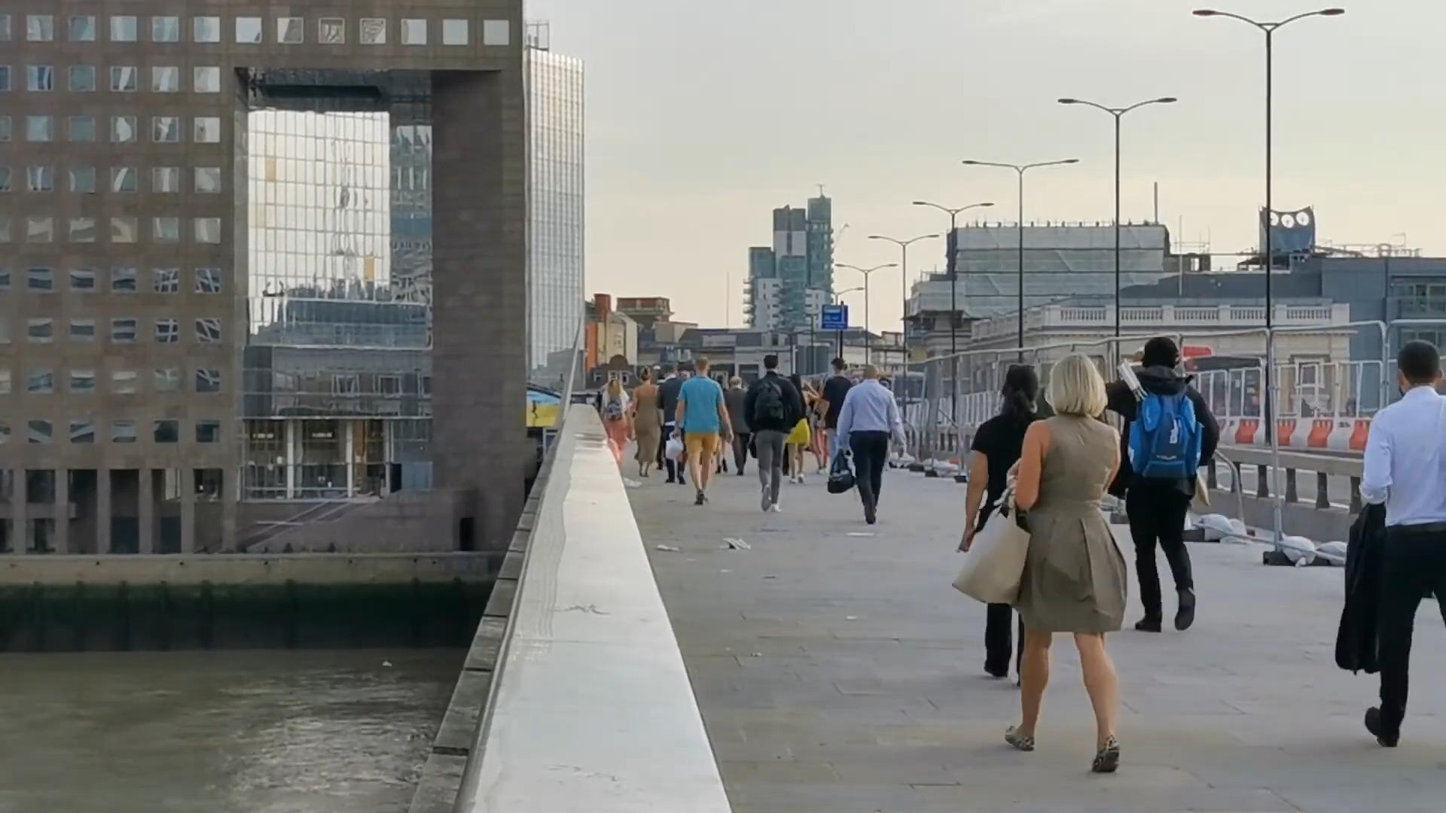no-helmet: (1045, 351, 1109, 418), (1397, 339, 1443, 396), (1002, 364, 1040, 432), (1141, 338, 1182, 372), (862, 364, 880, 382), (694, 357, 710, 376), (639, 366, 651, 385), (764, 355, 778, 371)
